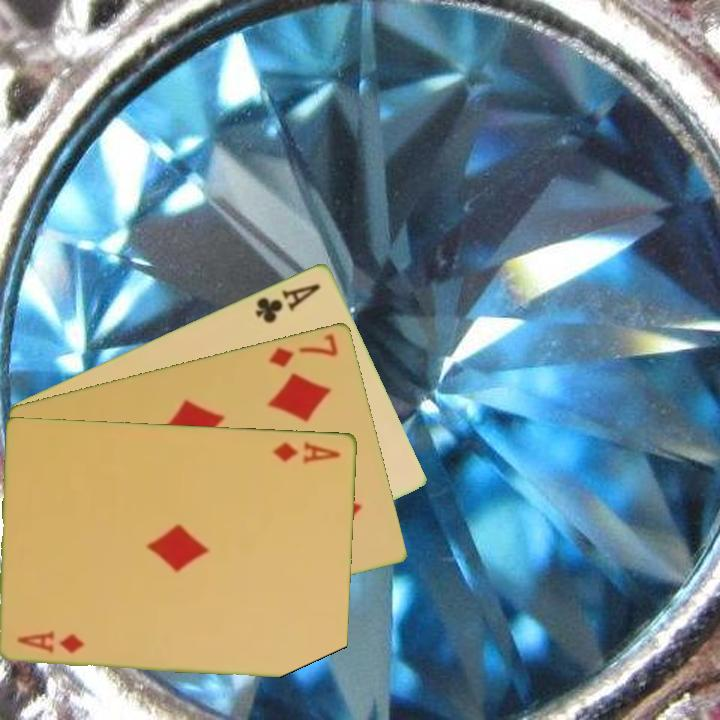7d: (265, 329, 341, 370)
Ac: (252, 279, 324, 326)
Ad: (269, 437, 343, 466), (14, 627, 87, 656)
